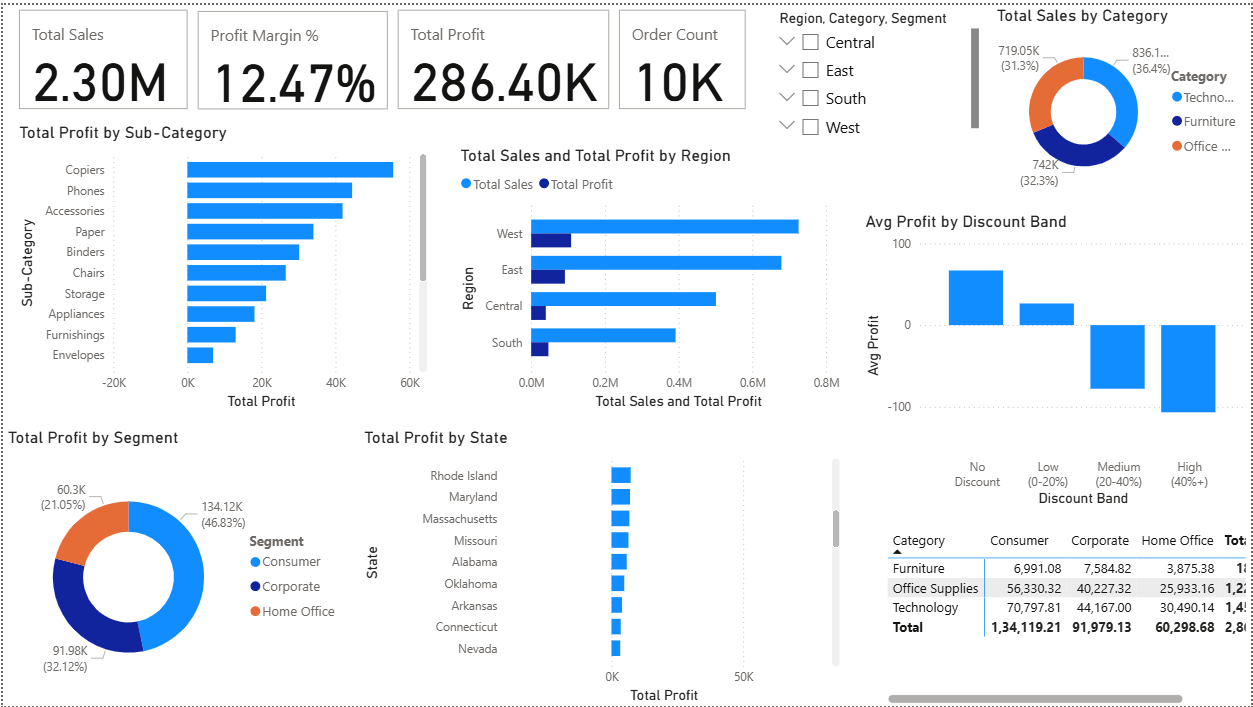

Layout of this report page (visuals, bound fields, positions):
{"tool":"powerbi","page":{"name":"Page 1","canvas":[1280,720],"ordinal":0},"visuals":[{"type":"cardVisual","fields":{"Data":["Superstore_Cleaned.Total Sales"]},"box":[11,0,183.4,112.5],"z":0},{"type":"cardVisual","fields":{"Data":["Superstore_Cleaned.Total Profit"]},"box":[399.9,0,227.4,112.5],"z":1000},{"type":"cardVisual","fields":{"Data":["Superstore_Cleaned.Profit Margin %"]},"box":[194.4,1.2,205.4,111.3],"z":2000},{"type":"clusteredBarChart","fields":{"Category":["Superstore_Cleaned.Sub-Category"],"Y":["Superstore_Cleaned.Total Profit"]},"box":[11.1,121,428.5,299.1],"z":2500},{"type":"cardVisual","fields":{"Data":["Superstore_Cleaned.Order Count"]},"box":[627.3,0,140.6,112.5],"z":3000},{"type":"clusteredBarChart","fields":{"Category":["Superstore_Cleaned.Region"],"Y":["Superstore_Cleaned.Total Sales","Superstore_Cleaned.Total Profit"]},"box":[464.7,143.3,399.3,275.5],"z":5000},{"type":"donutChart","fields":{"Category":["Superstore_Cleaned.Segment"],"Y":["Superstore_Cleaned.Total Profit"]},"box":[0,432.7,354.8,288],"z":6000},{"type":"clusteredColumnChart","fields":{"Category":["Superstore_Cleaned.Discount Band"],"Y":["Superstore_Cleaned.Avg Profit"]},"box":[879.3,211.5,400.7,307.5],"z":7000},{"type":"clusteredBarChart","fields":{"Category":["Superstore_Cleaned.State"],"Y":["Superstore_Cleaned.Total Profit"]},"box":[365.9,432.7,498.1,288],"z":8000},{"type":"pivotTable","fields":{"Columns":["Superstore_Cleaned.Segment"],"Rows":["Superstore_Cleaned.Category"],"Values":["Superstore_Cleaned.Total Profit"]},"box":[903,532.9,377,187.8],"z":9000},{"type":"donutChart","fields":{"Category":["Superstore_Cleaned.Category"],"Y":["Superstore_Cleaned.Total Sales"]},"box":[1014.3,0,265.7,200.3],"z":10000},{"type":"slicer","fields":{"Values":["Superstore_Cleaned.Region","Superstore_Cleaned.Category","Superstore_Cleaned.Segment"]},"box":[783.3,0,222.6,143.3],"z":11000}]}

Visuals, with their boxes in screenshot pixels (x1, y1, x2, y2), scaled from the page's 1280x720 canvas onto the 1253x707 screenshot:
cardVisual - Superstore_Cleaned.Total Sales: bbox=[11, 0, 190, 110]
cardVisual - Superstore_Cleaned.Total Profit: bbox=[391, 0, 614, 110]
cardVisual - Superstore_Cleaned.Profit Margin %: bbox=[190, 1, 391, 110]
clusteredBarChart - Superstore_Cleaned.Sub-Category x Superstore_Cleaned.Total Profit: bbox=[11, 119, 430, 413]
cardVisual - Superstore_Cleaned.Order Count: bbox=[614, 0, 752, 110]
clusteredBarChart - Superstore_Cleaned.Region x Superstore_Cleaned.Total Sales: bbox=[455, 141, 846, 411]
donutChart - Superstore_Cleaned.Segment x Superstore_Cleaned.Total Profit: bbox=[0, 425, 347, 706]
clusteredColumnChart - Superstore_Cleaned.Discount Band x Superstore_Cleaned.Avg Profit: bbox=[861, 208, 1252, 510]
clusteredBarChart - Superstore_Cleaned.State x Superstore_Cleaned.Total Profit: bbox=[358, 425, 846, 706]
pivotTable - Superstore_Cleaned.Segment x Superstore_Cleaned.Category: bbox=[884, 523, 1252, 706]
donutChart - Superstore_Cleaned.Category x Superstore_Cleaned.Total Sales: bbox=[993, 0, 1252, 197]
slicer - Superstore_Cleaned.Region x Superstore_Cleaned.Category: bbox=[767, 0, 985, 141]
